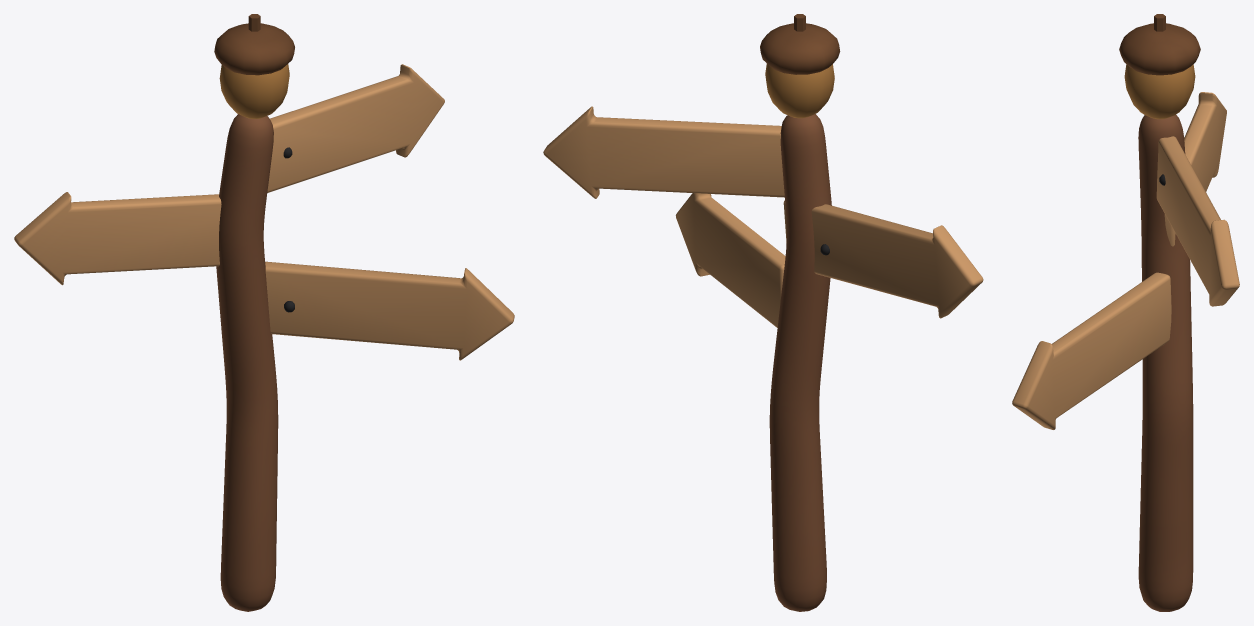
The model's file is signpost.glb.
The picture shows the model from 3 angles, left to right: view 1: azimuth 30°, elevation 25°; view 2: azimuth 150°, elevation 25°; view 3: azimuth 270°, elevation 25°; orthographic projection.
Parts seen in each view (by area): view 1: signpost; view 2: signpost; view 3: signpost.
Boxes of the visible parts, x1,y1,x2,y2 form: signpost: (14, 14, 514, 611); signpost: (543, 14, 983, 611); signpost: (1012, 14, 1239, 611).
Bounding box in the file's own units: 1.84 × 2.41 × 0.8362.
3 materials, 3 textured.
